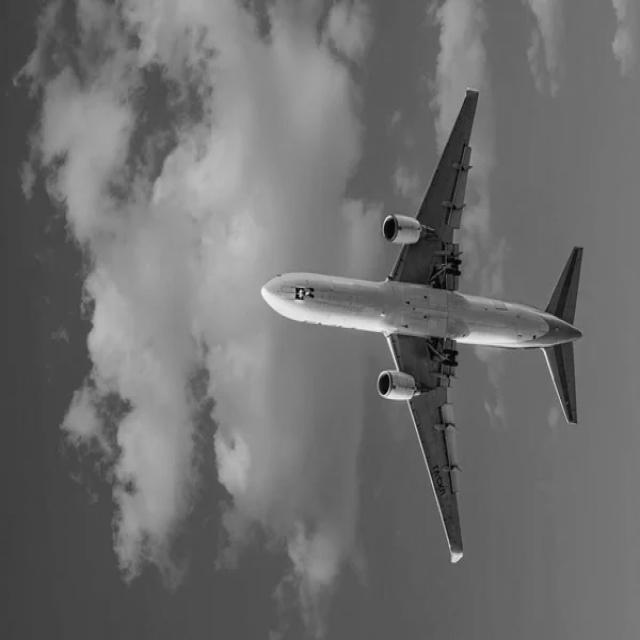Aircraft: (252, 68, 588, 587)
